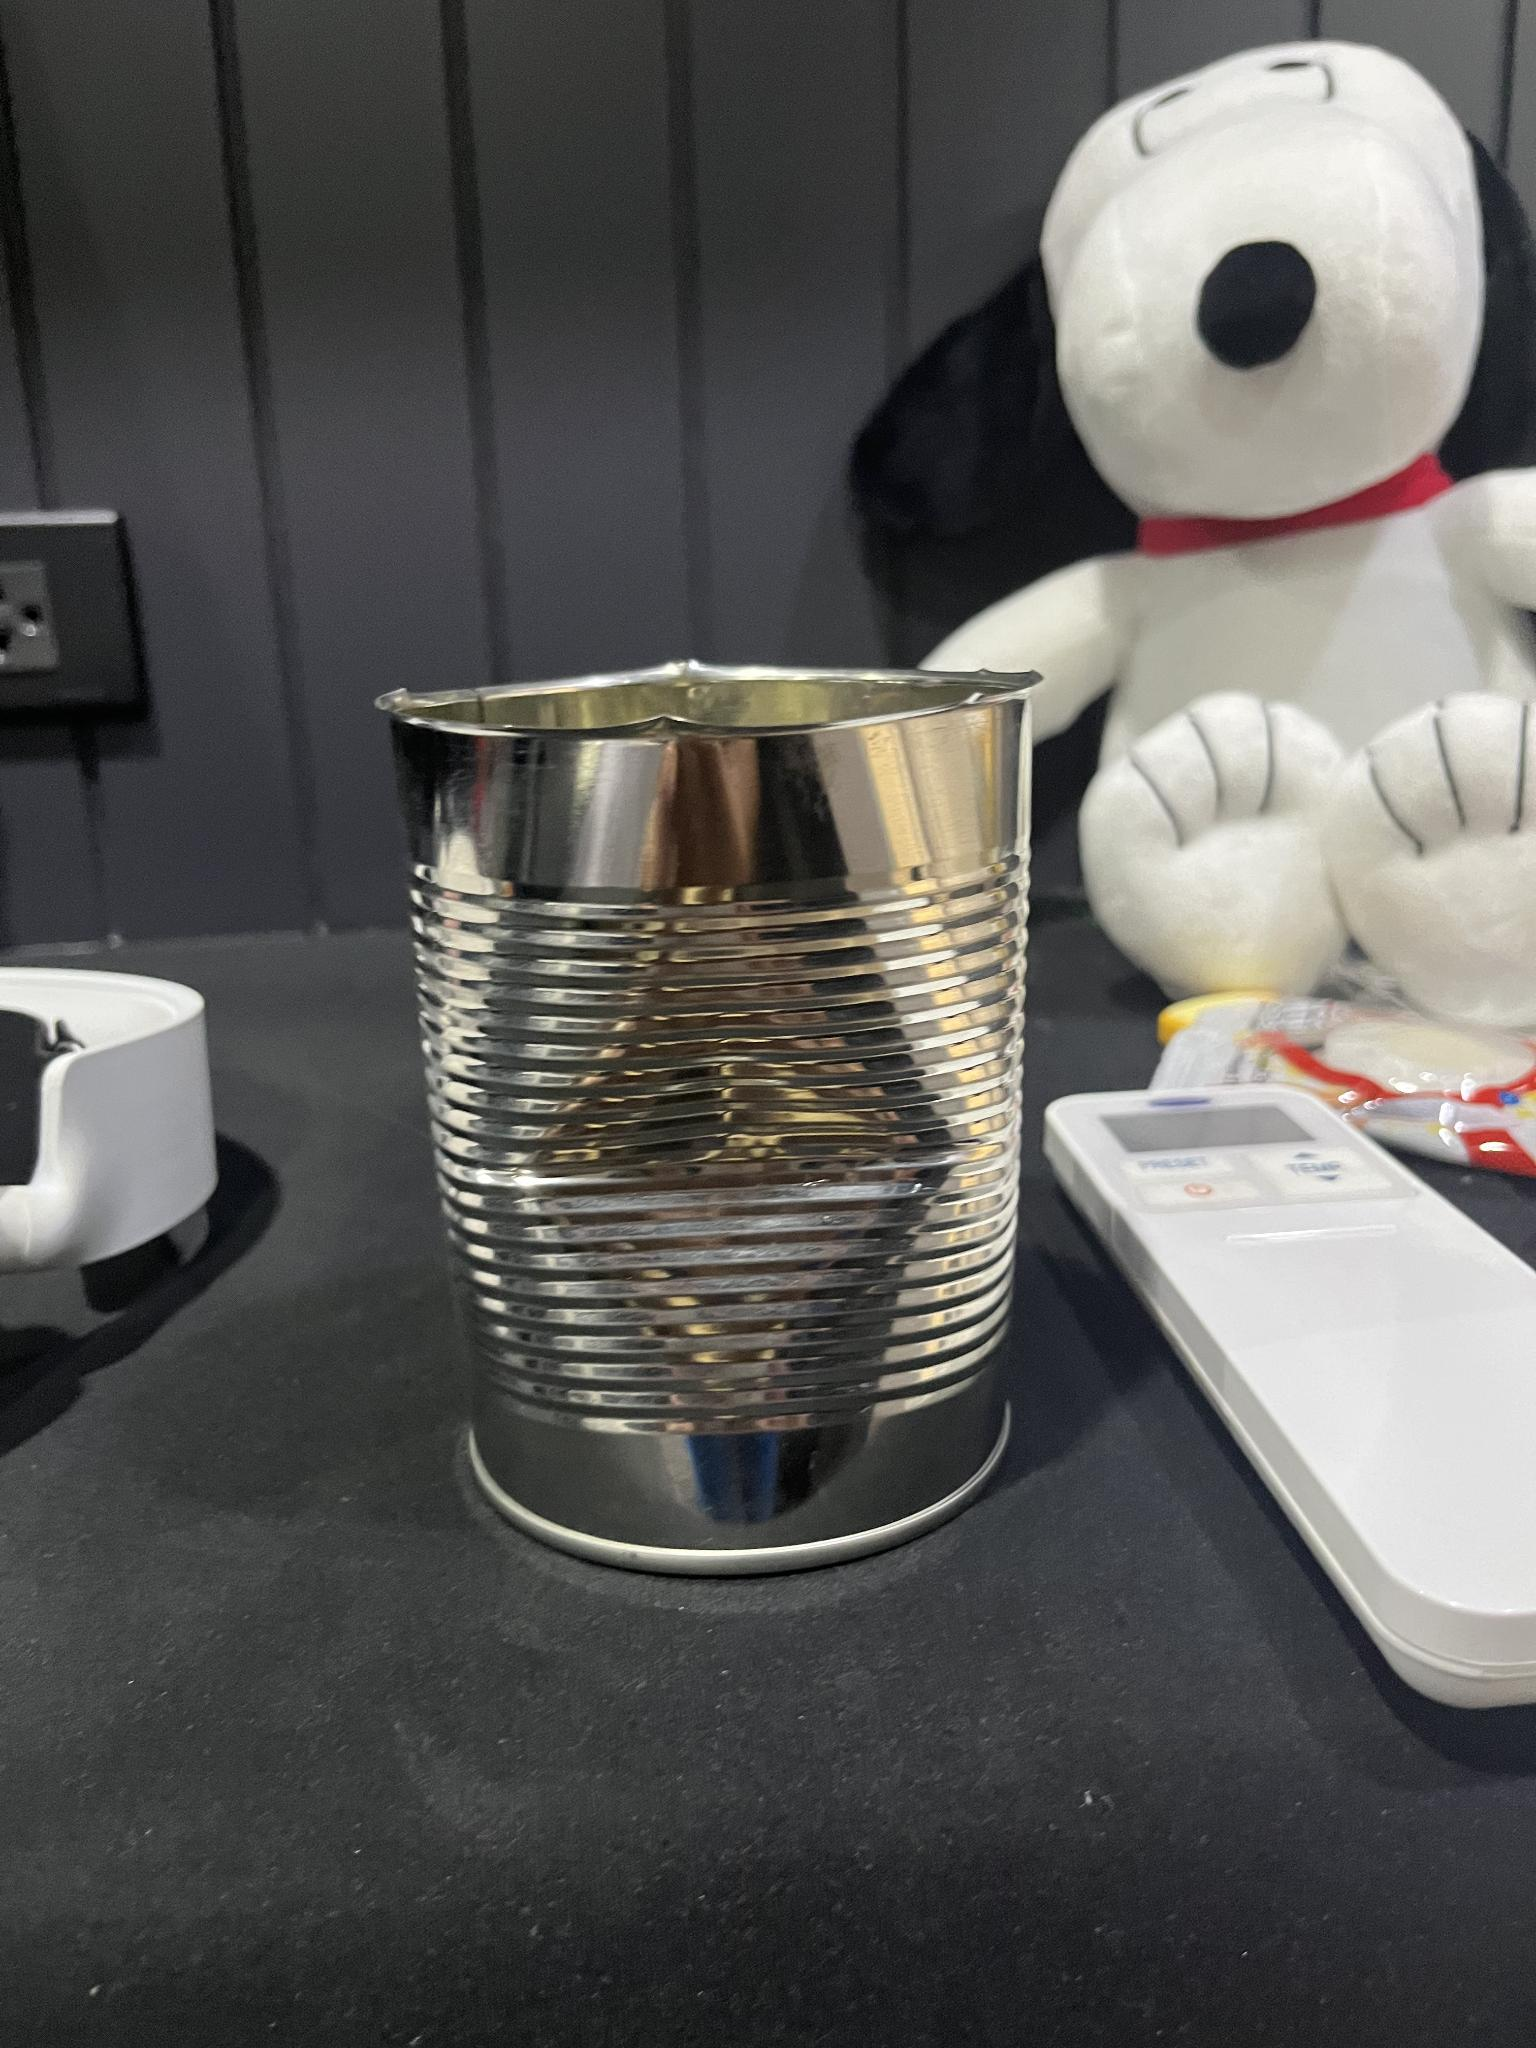metal: (382, 663, 1029, 1572)
